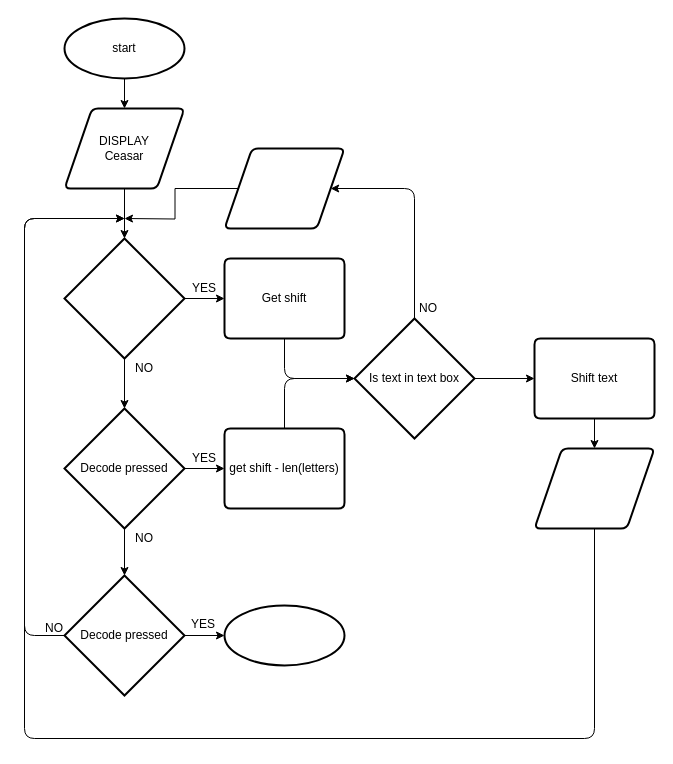
This 673x764 diagram has some shape labels left out. Here are the shapes that lost their labels. From the top down, the centre of each, then its label:
(x=284, y=188): DISPLAY Error message
(x=124, y=298): Encode pressed
(x=594, y=488): DISPLAY encoded text
(x=284, y=635): END
